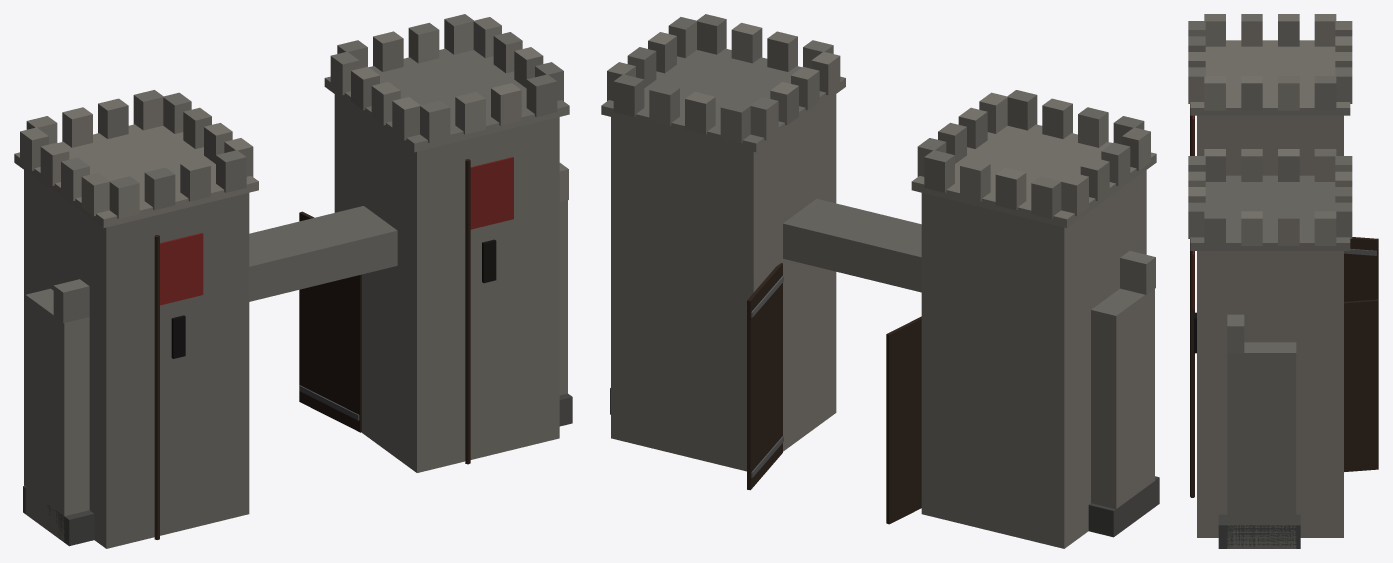
Rendered from walk_hallowed_gate.glb.
The picture shows the model from 3 angles, left to right: view 1: azimuth 30°, elevation 25°; view 2: azimuth 150°, elevation 25°; view 3: azimuth 270°, elevation 25°; orthographic projection. The views are drawn at different scales.
Parts seen in each view (by area): view 1: walk_hallowed_gate, walk_hallowed_gate_door1; view 2: walk_hallowed_gate, walk_hallowed_gate_door1, walk_hallowed_gate_door0; view 3: walk_hallowed_gate, walk_hallowed_gate_door1, walk_hallowed_gate_door0.
Part boxes in pixels (<box>): walk_hallowed_gate: <box>14,14,572,548</box>; walk_hallowed_gate_door1: <box>299,211,361,432</box>; walk_hallowed_gate: <box>601,14,1159,548</box>; walk_hallowed_gate_door1: <box>747,263,783,490</box>; walk_hallowed_gate_door0: <box>886,316,921,524</box>; walk_hallowed_gate: <box>1188,14,1352,548</box>; walk_hallowed_gate_door1: <box>1344,299,1378,471</box>; walk_hallowed_gate_door0: <box>1344,237,1378,301</box>.
Size of what is drawn, in the model's own units: 12.05 by 8.25 by 4.41.
2 materials, 2 textured.
